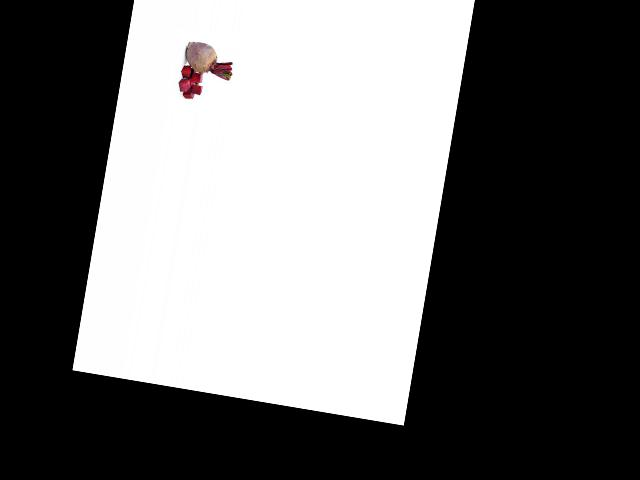beet: (181, 40, 235, 81)
